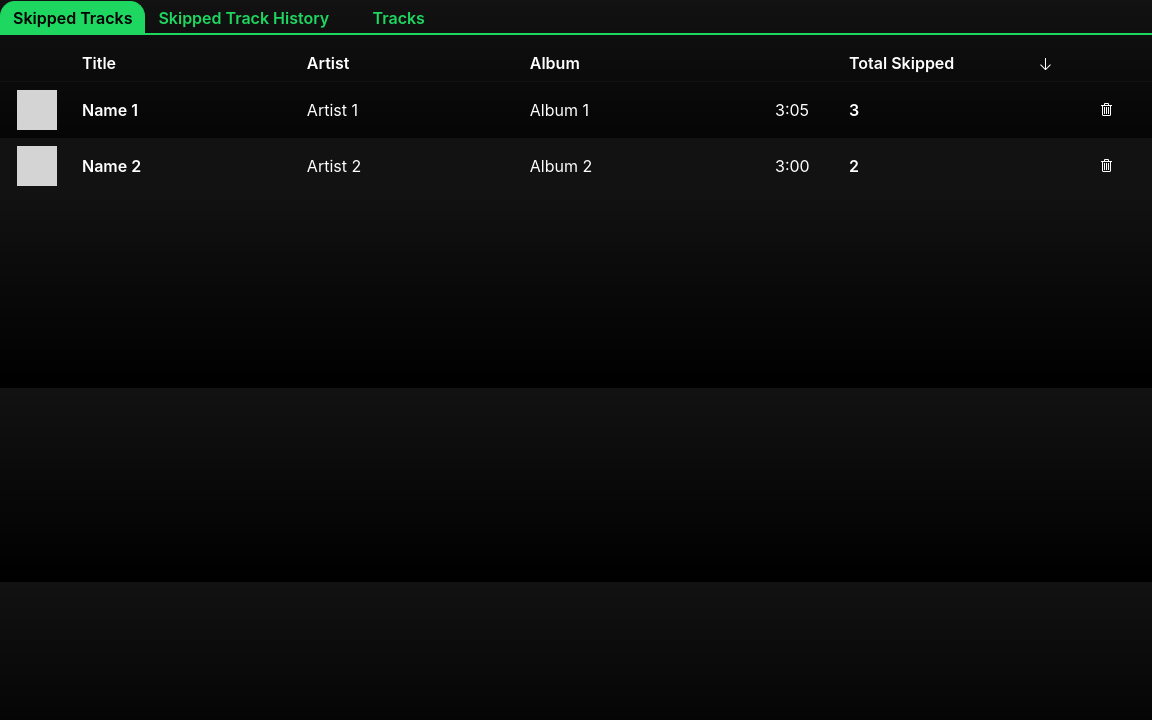
Test: <PlaylistTabs /> › should display Tracks tab when clicked
The width and height of the screenshot is (1152, 720).
Click the tab with test id "tracks-tab".
click(399, 18)  # box x1=373 y1=8 x2=425 y2=28
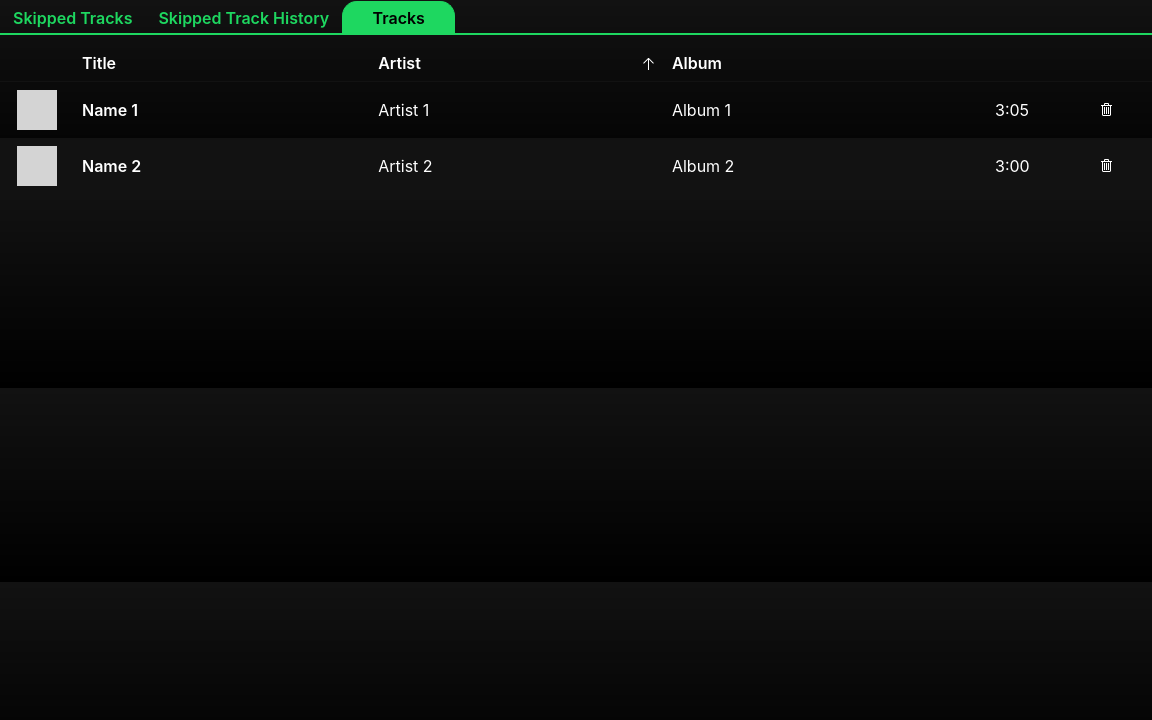
Expected: the table with test id "tracks-table" is shown, x1=0 y1=45 x2=1151 y2=194
